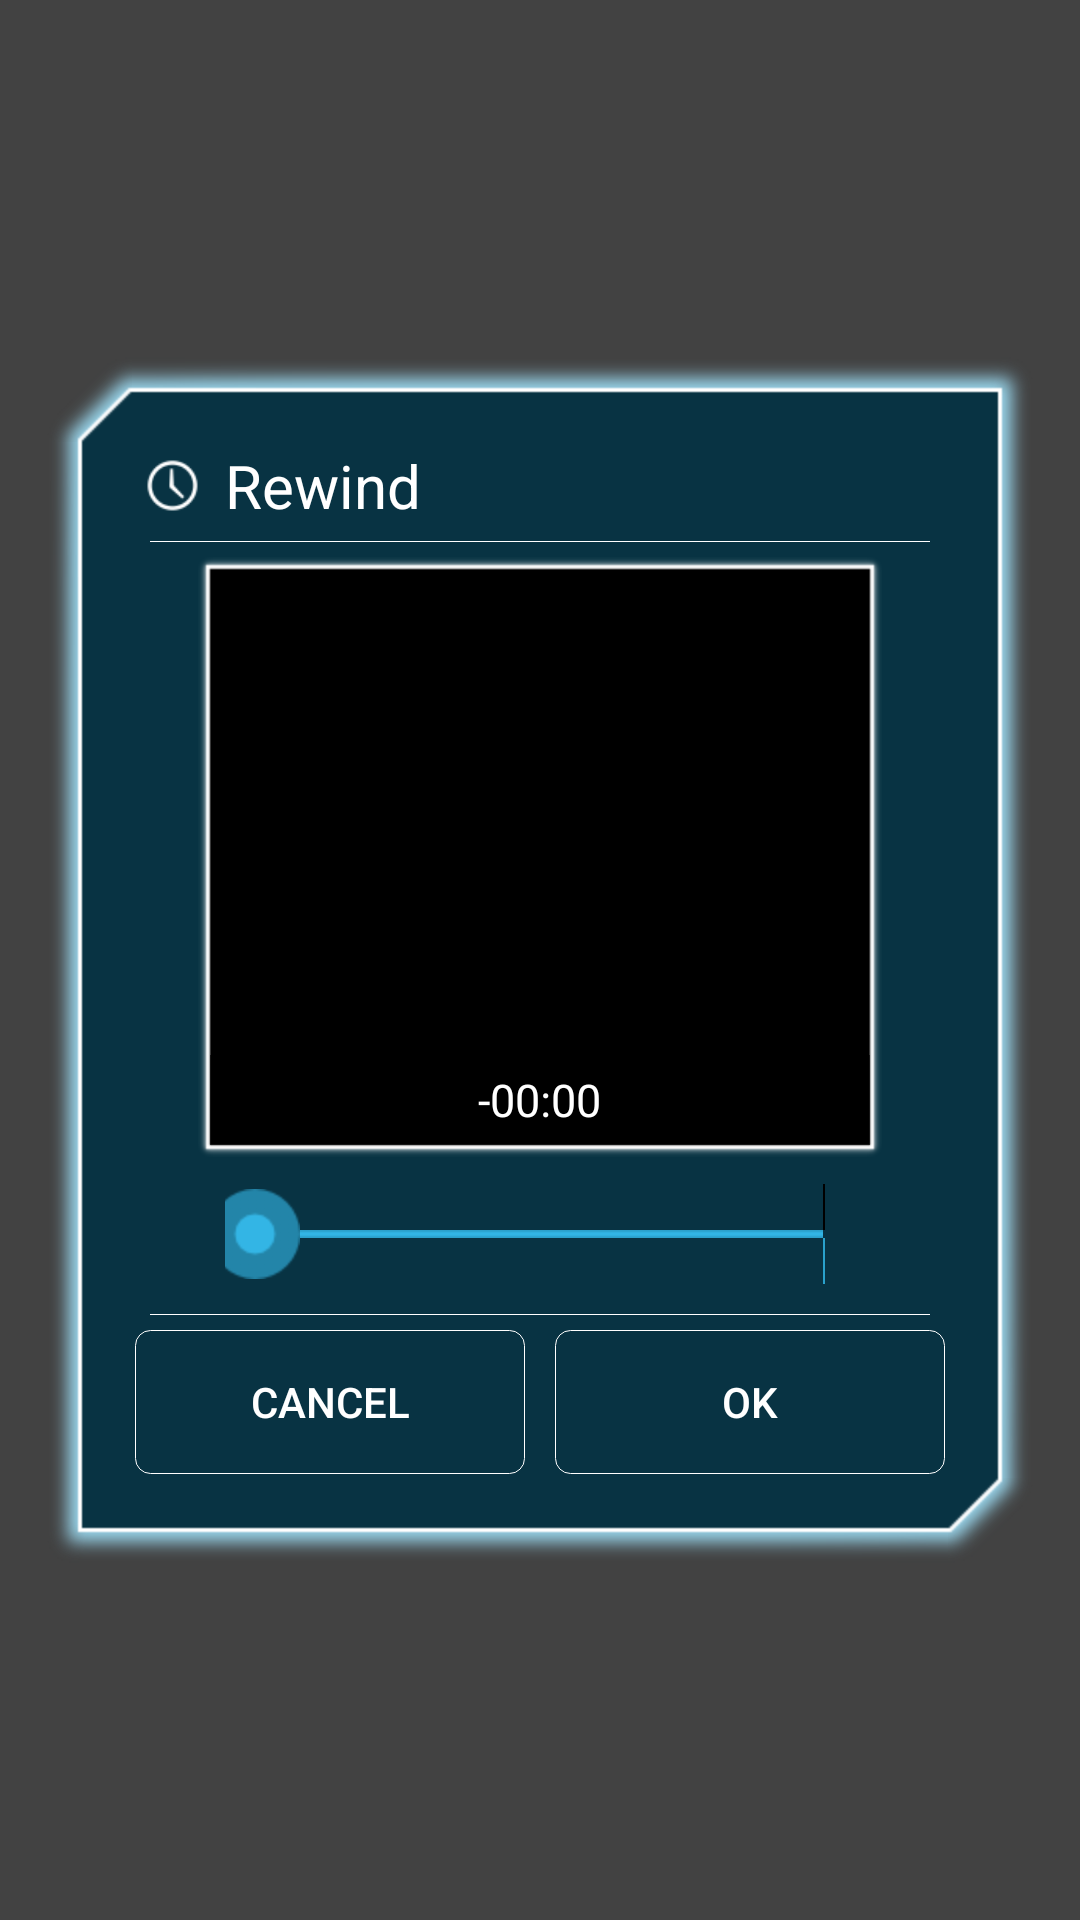

Icon bounding boxes for this 1080px x 1920px phone screenshot, format (x1, y1, x2, y2):
time machine: (147, 460, 198, 511)
